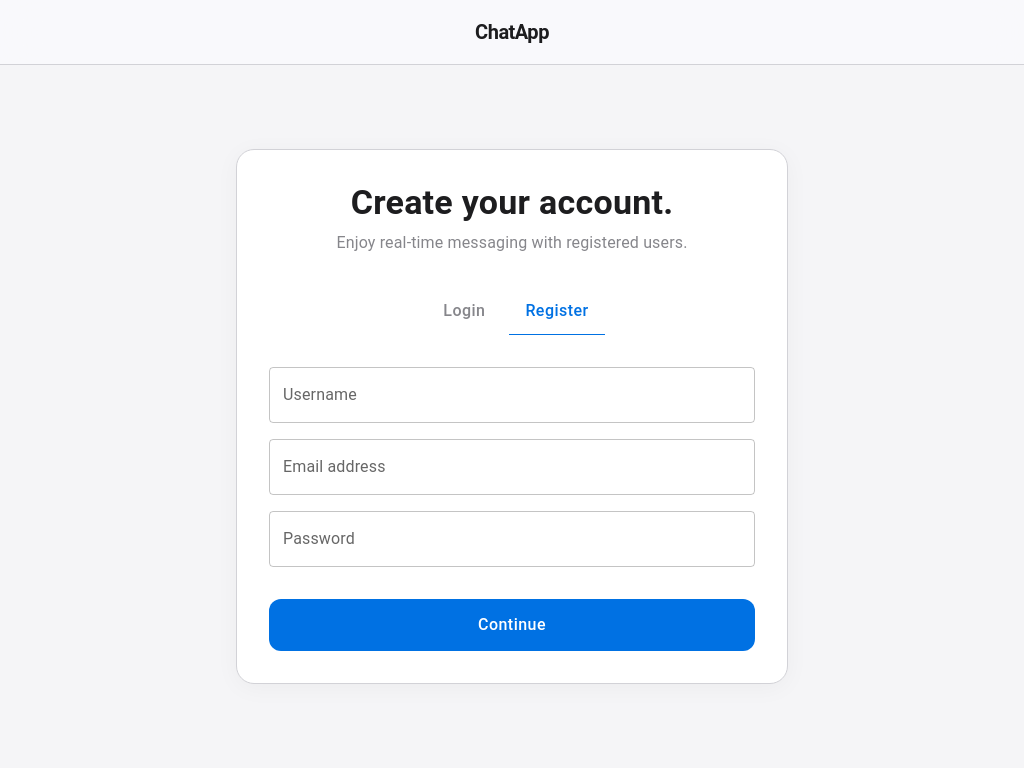
it: Landing Page › switches to the login form when the Login tab is clicked
Find and click the login tab
Click the tab "Login". click: (464, 312)
box: [419, 288, 509, 336]
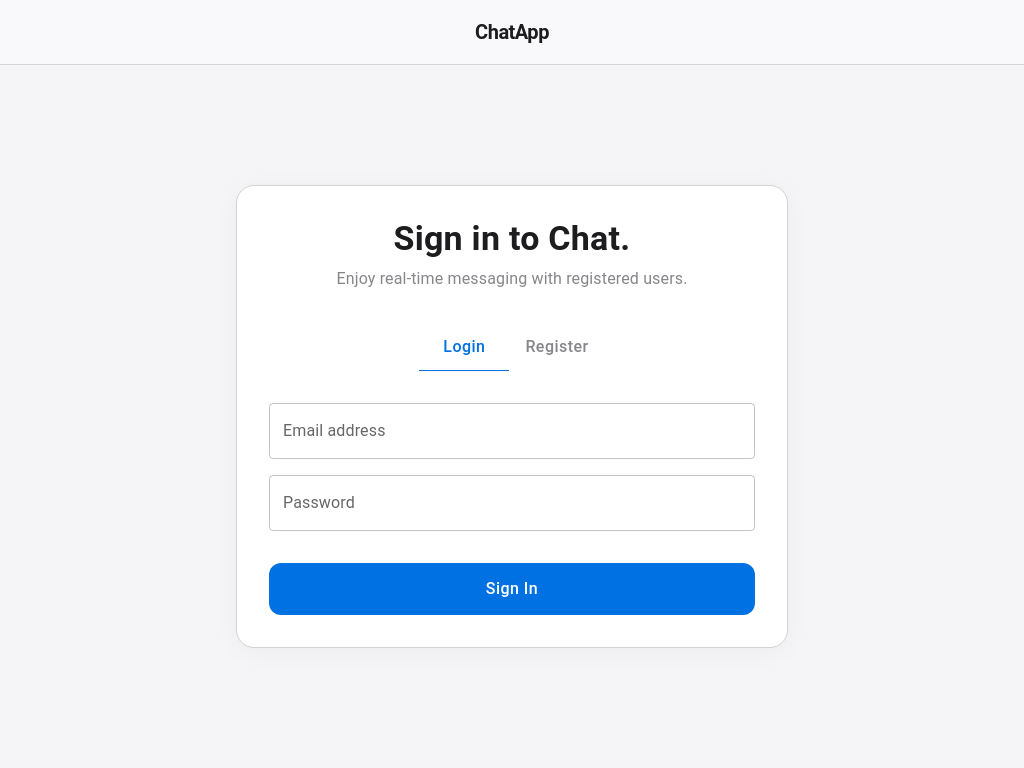
Now the heading "Sign in to Chat." is shown, box [394, 218, 630, 258]
Now the label labelled "Username" is gone
